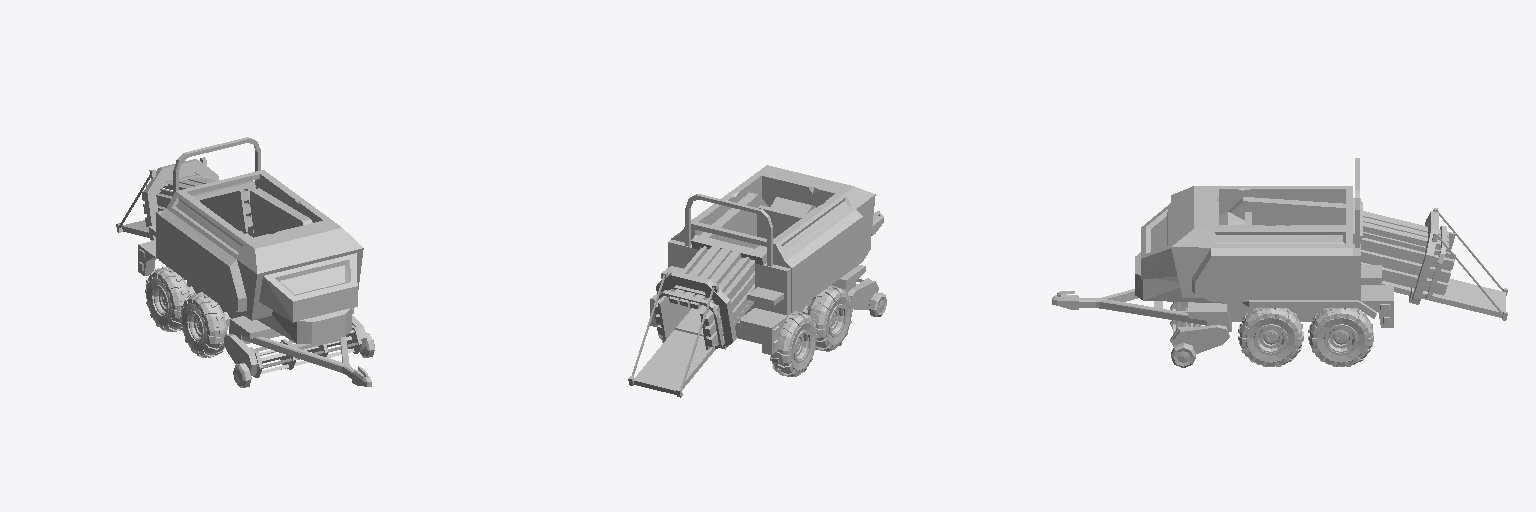
The model's file is SM_Veh_Attach_Baler_01.obj.
The picture shows the model from 3 angles: view 1: azimuth 30°, elevation 25°; view 2: azimuth 150°, elevation 25°; view 3: azimuth 270°, elevation 25°; orthographic projection.
Bounding box in the file's own units: 225 × 267 × 674.